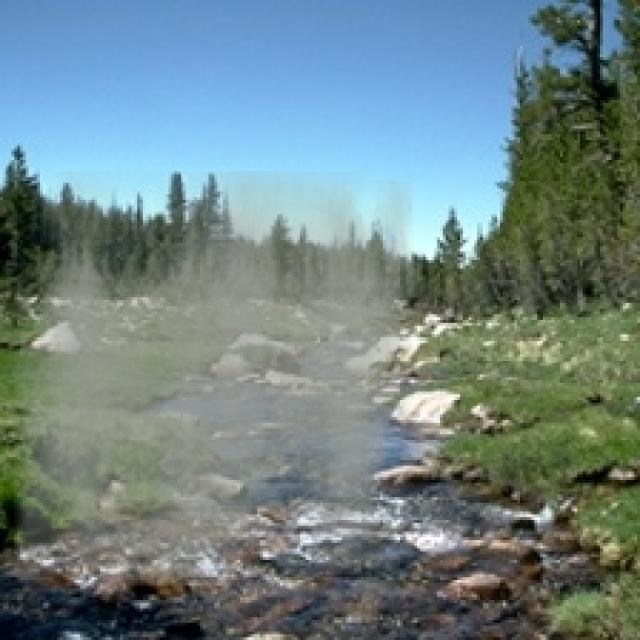Smoke: (14, 171, 414, 586)
